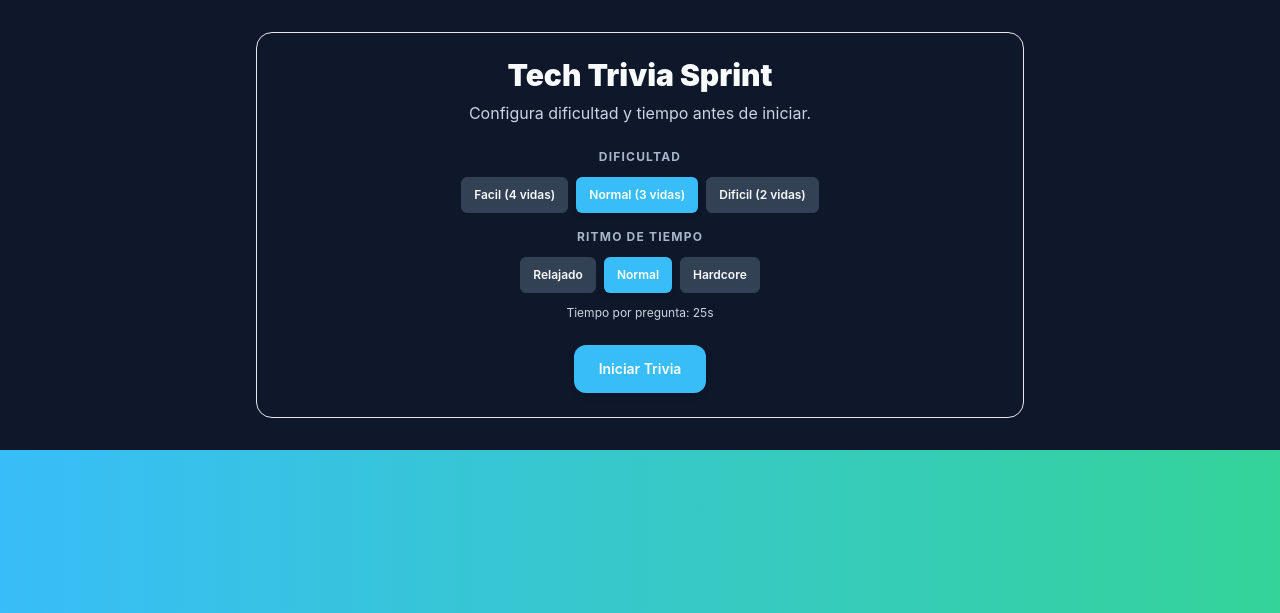
Scenario: TechTriviaSprintView › renders setup and starts trivia sprint
Click the button "Iniciar Trivia": (640, 369) [574,345,706,393]
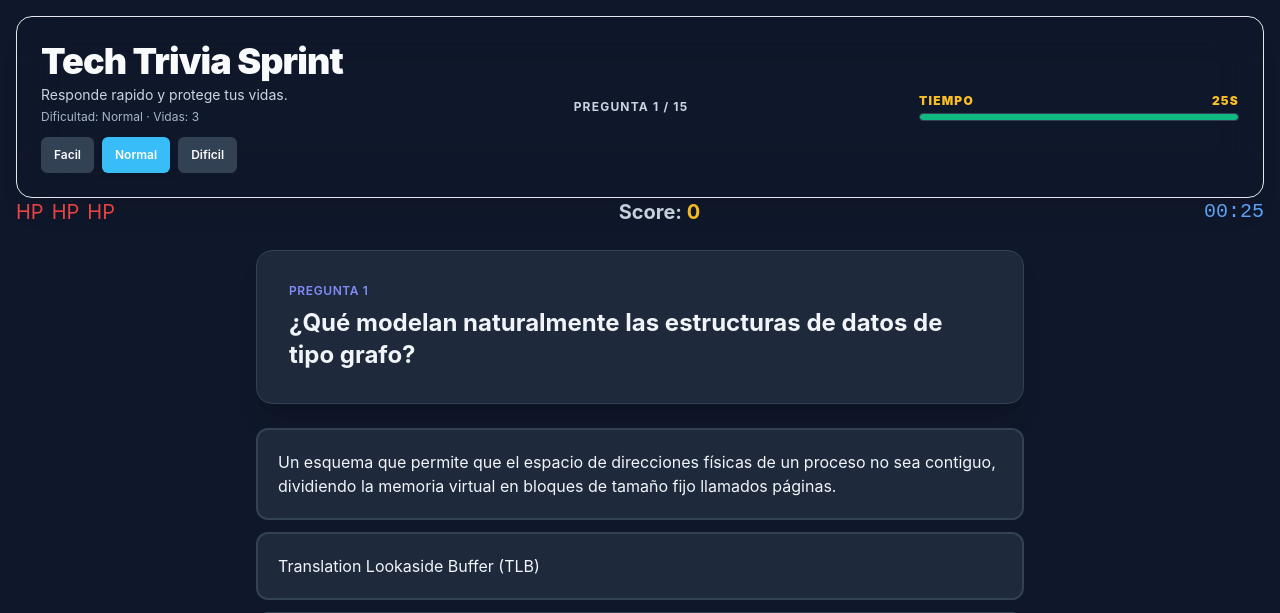
expect the text "Score: 0" is shown: met, box [619,198,700,226]
expect the button "Iniciar Trivia" is gone: met
